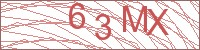3: (94, 13, 113, 42)
6: (68, 2, 86, 29)
M: (121, 5, 149, 35)
X: (146, 8, 169, 36)
